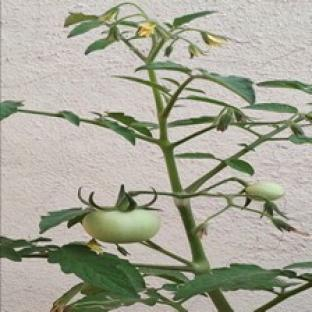Tomato: (83, 209, 160, 243), (246, 182, 284, 200)
